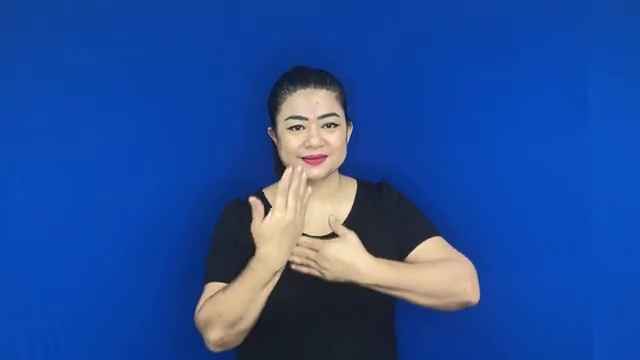bread: (241, 157, 377, 292)
